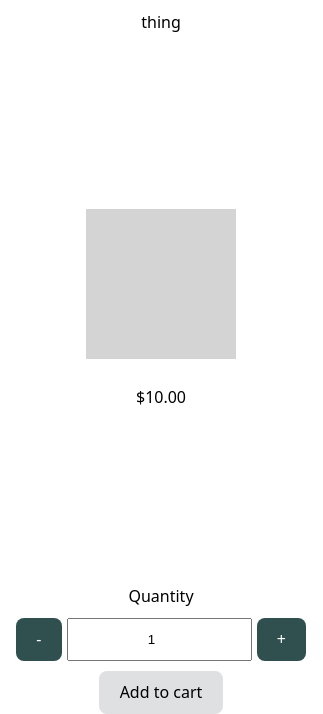
Test case: Product component › decreases quantity input on minus button click
This screenshot has width=323, height=714.
Click the button "+" at coordinates (281, 639), box x1=256 y1=618 x2=306 y2=661
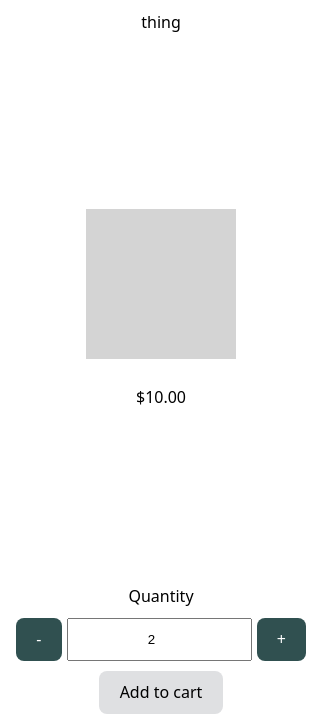
Expected: the number field holds "2", x1=66 y1=618 x2=252 y2=661
Click the button "-" at coordinates (39, 639), box x1=16 y1=618 x2=62 y2=661
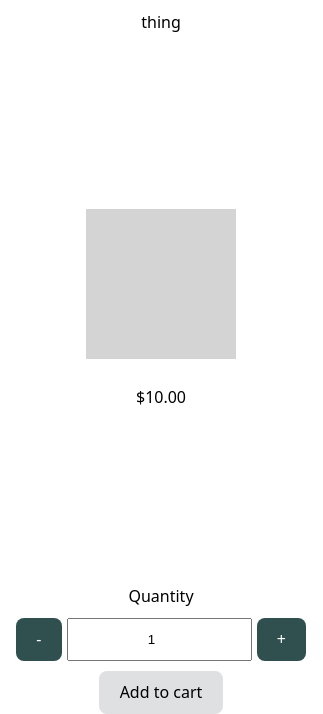
Expected: the number field holds "1", x1=66 y1=618 x2=252 y2=661
